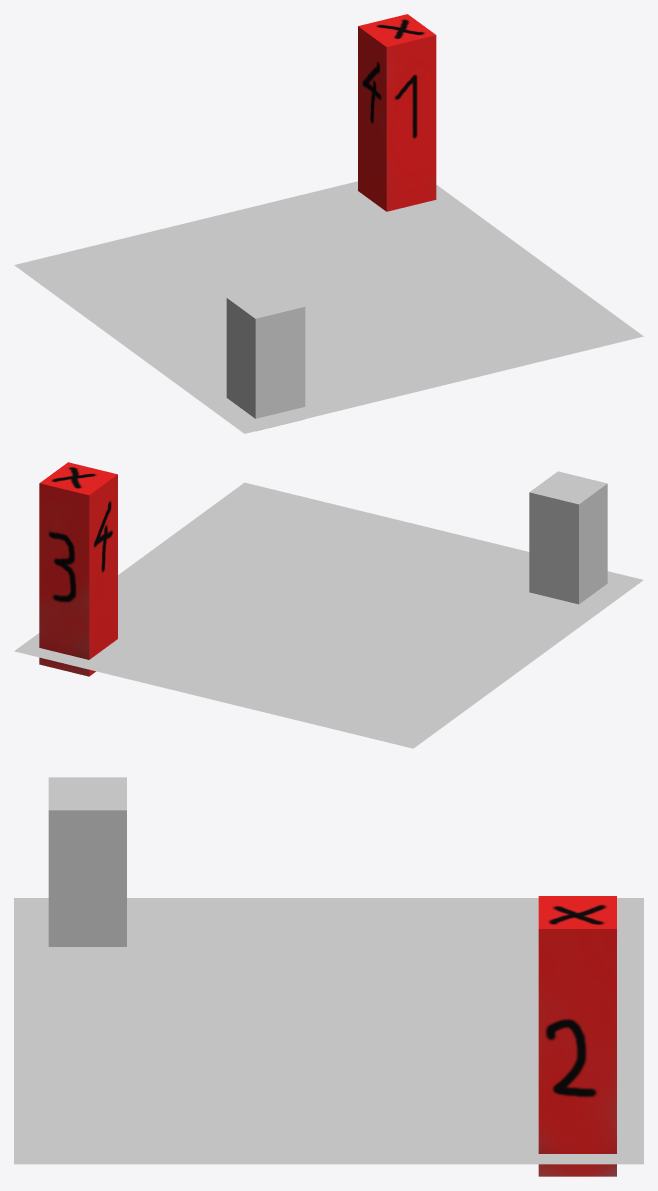
Rendered from multi_model_no_texture.fbx.
3 renders of one model, top to bottom at view 1: azimuth 30°, elevation 25°; view 2: azimuth 150°, elevation 25°; view 3: azimuth 270°, elevation 25°, orthographic. The views are drawn at different scales.
Visible parts, largest first — view 1: Plane, Cube.001, Cube; view 2: Plane, Cube.001, Cube; view 3: Plane, Cube.001, Cube.
Part boxes in pixels (x1,y1,x2,y2): Plane: (14,181,643,433); Cube.001: (358,14,436,211); Cube: (226,285,305,431); Plane: (14,482,643,748); Cube.001: (39,462,117,676); Cube: (529,471,607,604); Plane: (14,898,643,1164); Cube.001: (538,896,616,1176); Cube: (48,777,126,946).
Bounding box in the file's own units: 16.07 × 6.97 × 16.07.
Materials: 1 (1 with a texture image).
